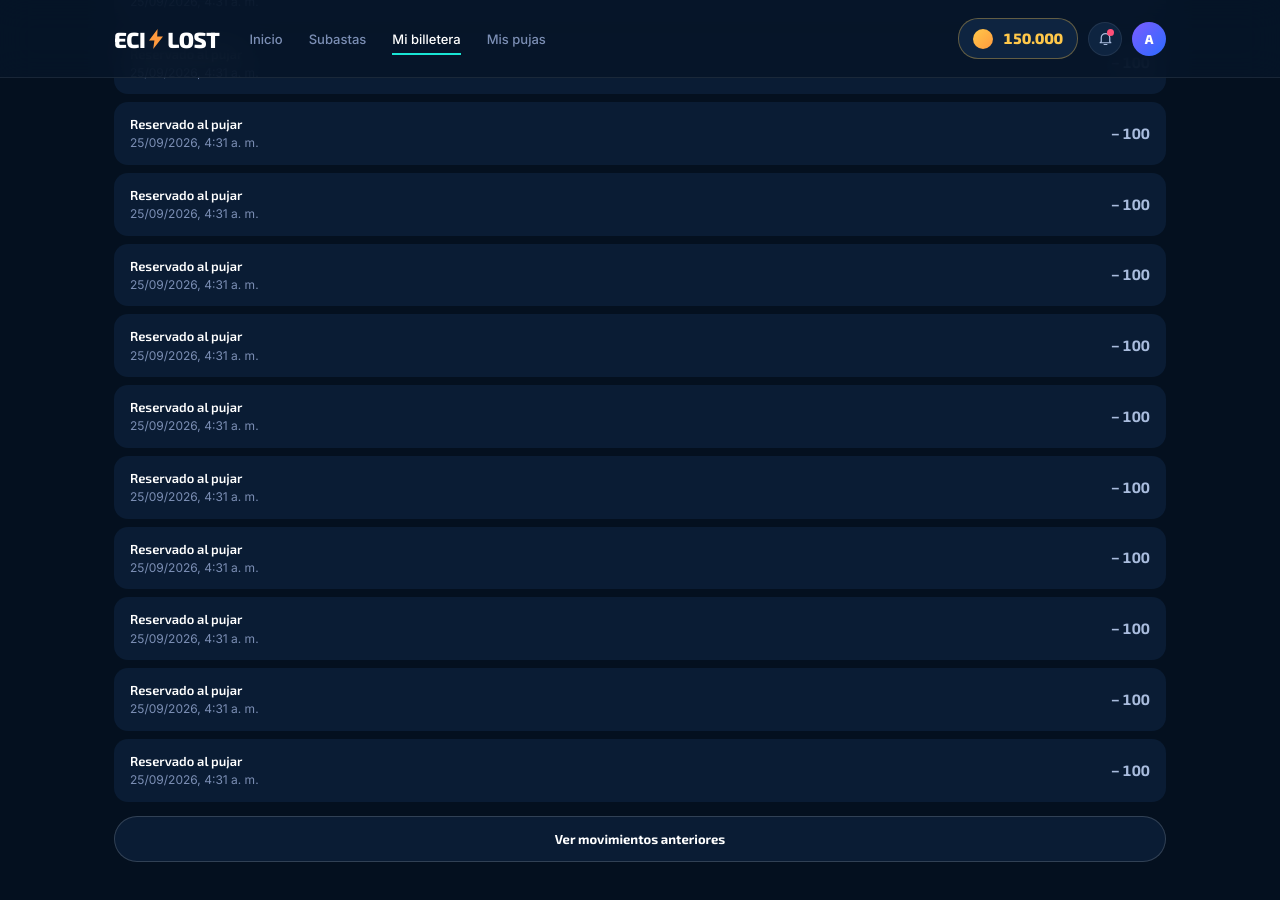
Scenario: Billetera › el historial muestra cada movimiento con su signo y carga los anteriores por paginas
(page scrolled)
Check: the text "Emisión inicial" is not shown
Click the button "Ver movimientos anteriores".
click(640, 839)  # box [114, 816, 1166, 862]
(page scrolled)
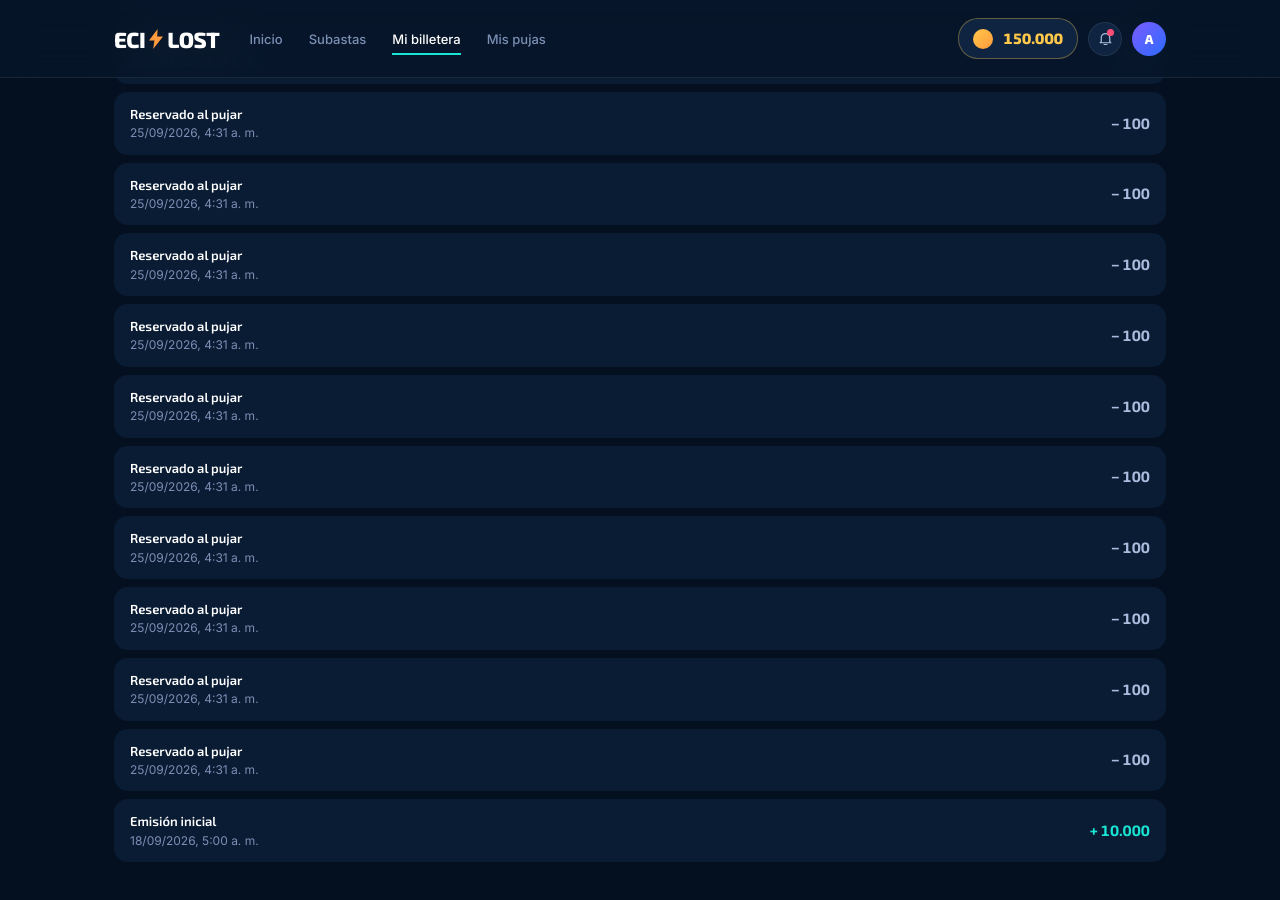
Check: the text "Emisión inicial" is shown, box [130, 813, 216, 829]
Check: the text "+ 10.000" is shown, box [1090, 819, 1150, 842]
Check: the button "movimientos anteriores" is gone
